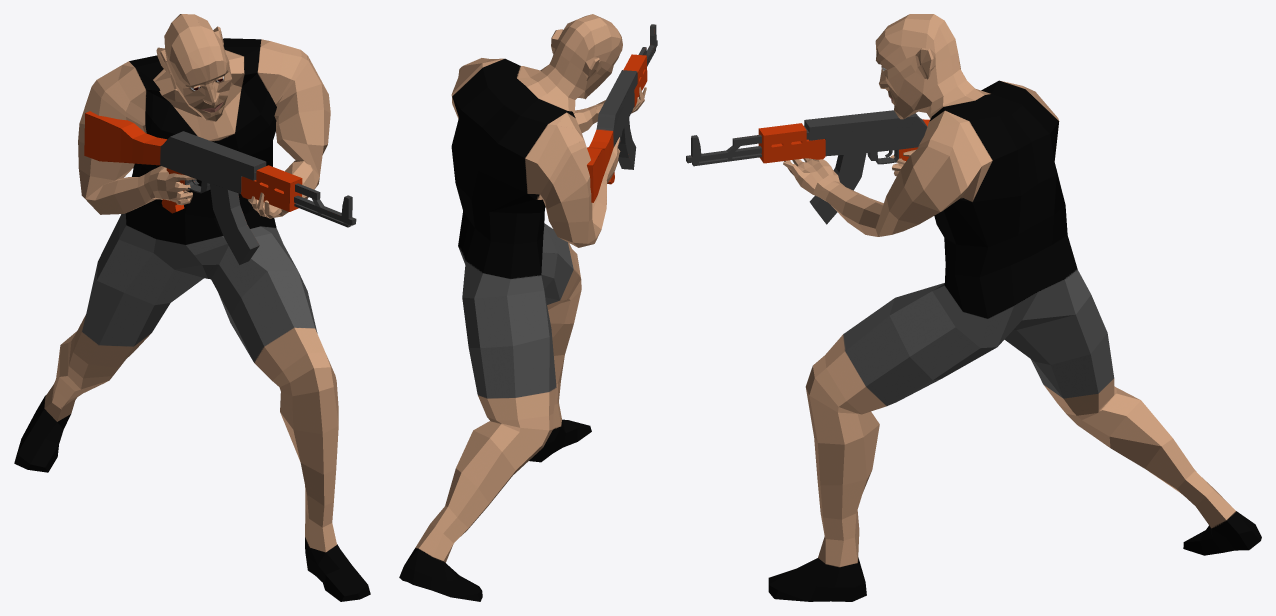
File: PlayerWalk(8).obj
3 views of the same model, side by side, from view 1: azimuth 30°, elevation 25°; view 2: azimuth 150°, elevation 25°; view 3: azimuth 270°, elevation 25° (orthographic). The views are drawn at different scales.
Visible parts, largest first — view 1: Plane002, Object001; view 2: Plane002, Object001; view 3: Plane002, Object001.
Boxes of the visible parts, box(x1,y1,x2,y2) form: Plane002: box(14, 14, 370, 601); Object001: box(84, 111, 356, 264); Plane002: box(399, 14, 646, 601); Object001: box(587, 24, 657, 202); Plane002: box(768, 14, 1261, 601); Object001: box(686, 110, 929, 224).
Bounding box in the file's own units: 574 × 1536 × 1491.
